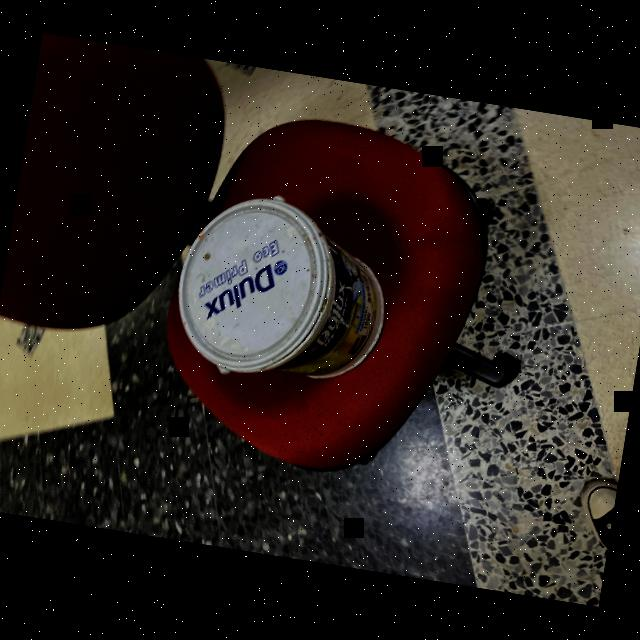paint_bucket: (166, 174, 412, 408)
